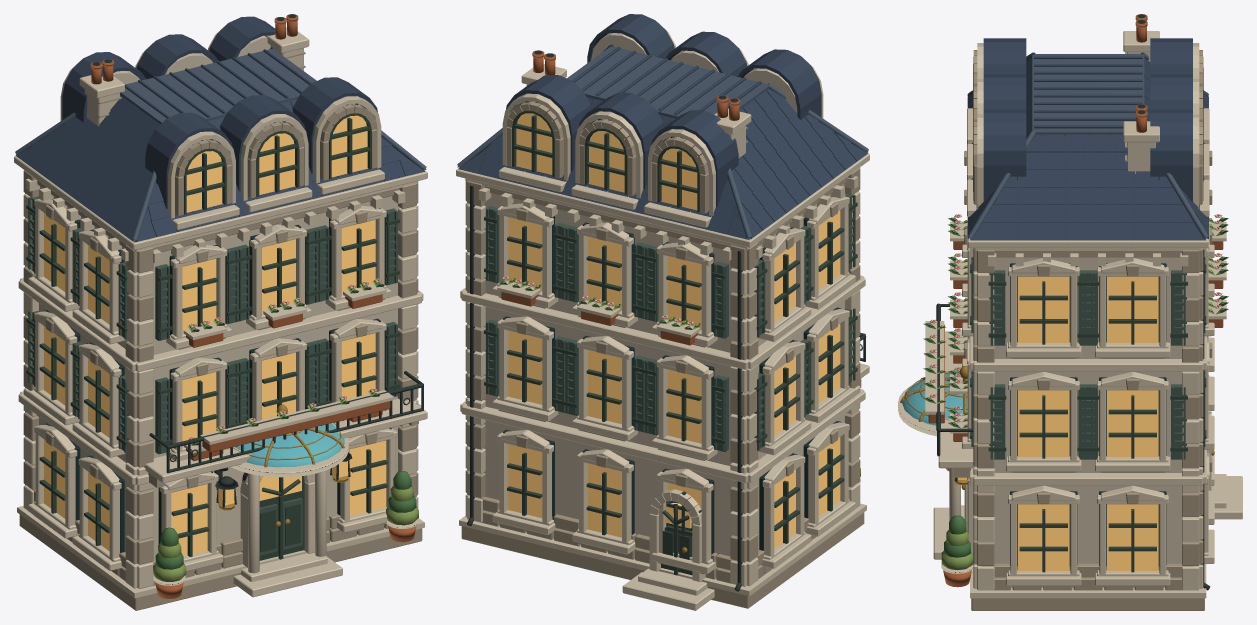
3 renders of one model, left to right at view 1: azimuth 30°, elevation 25°; view 2: azimuth 150°, elevation 25°; view 3: azimuth 270°, elevation 25°, orthographic.
Parts seen in each view (by area): view 1: classic_hotel_3_geometry; view 2: classic_hotel_3_geometry; view 3: classic_hotel_3_geometry.
Part boxes in pixels (x1=…): classic_hotel_3_geometry: x1=14, y1=14, x2=427, y2=610; classic_hotel_3_geometry: x1=456, y1=14, x2=869, y2=610; classic_hotel_3_geometry: x1=898, y1=14, x2=1242, y2=610.
Size of the model in its own units: 0.99 by 1.48 by 0.9664.
